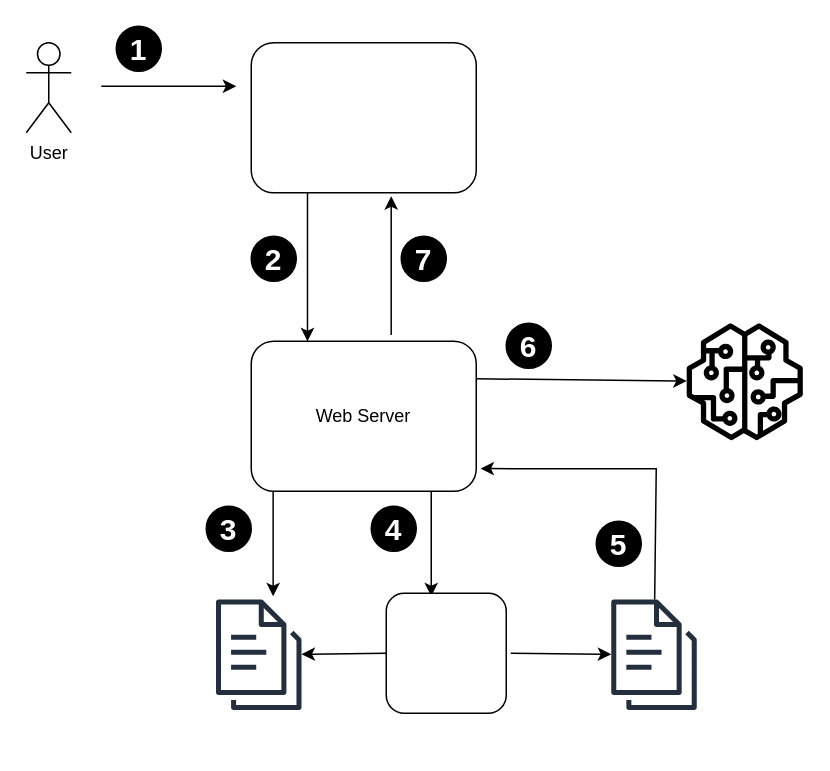
This 830x771 diagram has some shape labels left out. The centre of each missing label's shape, as x and y in pixels:
"FFMpeg" goes at [445,652].
"LLM" goes at [744,381].
"OUTPUTS" goes at [653,654].
"UPLOADS" goes at [258,654].
"Web Front End" goes at [363,117].
